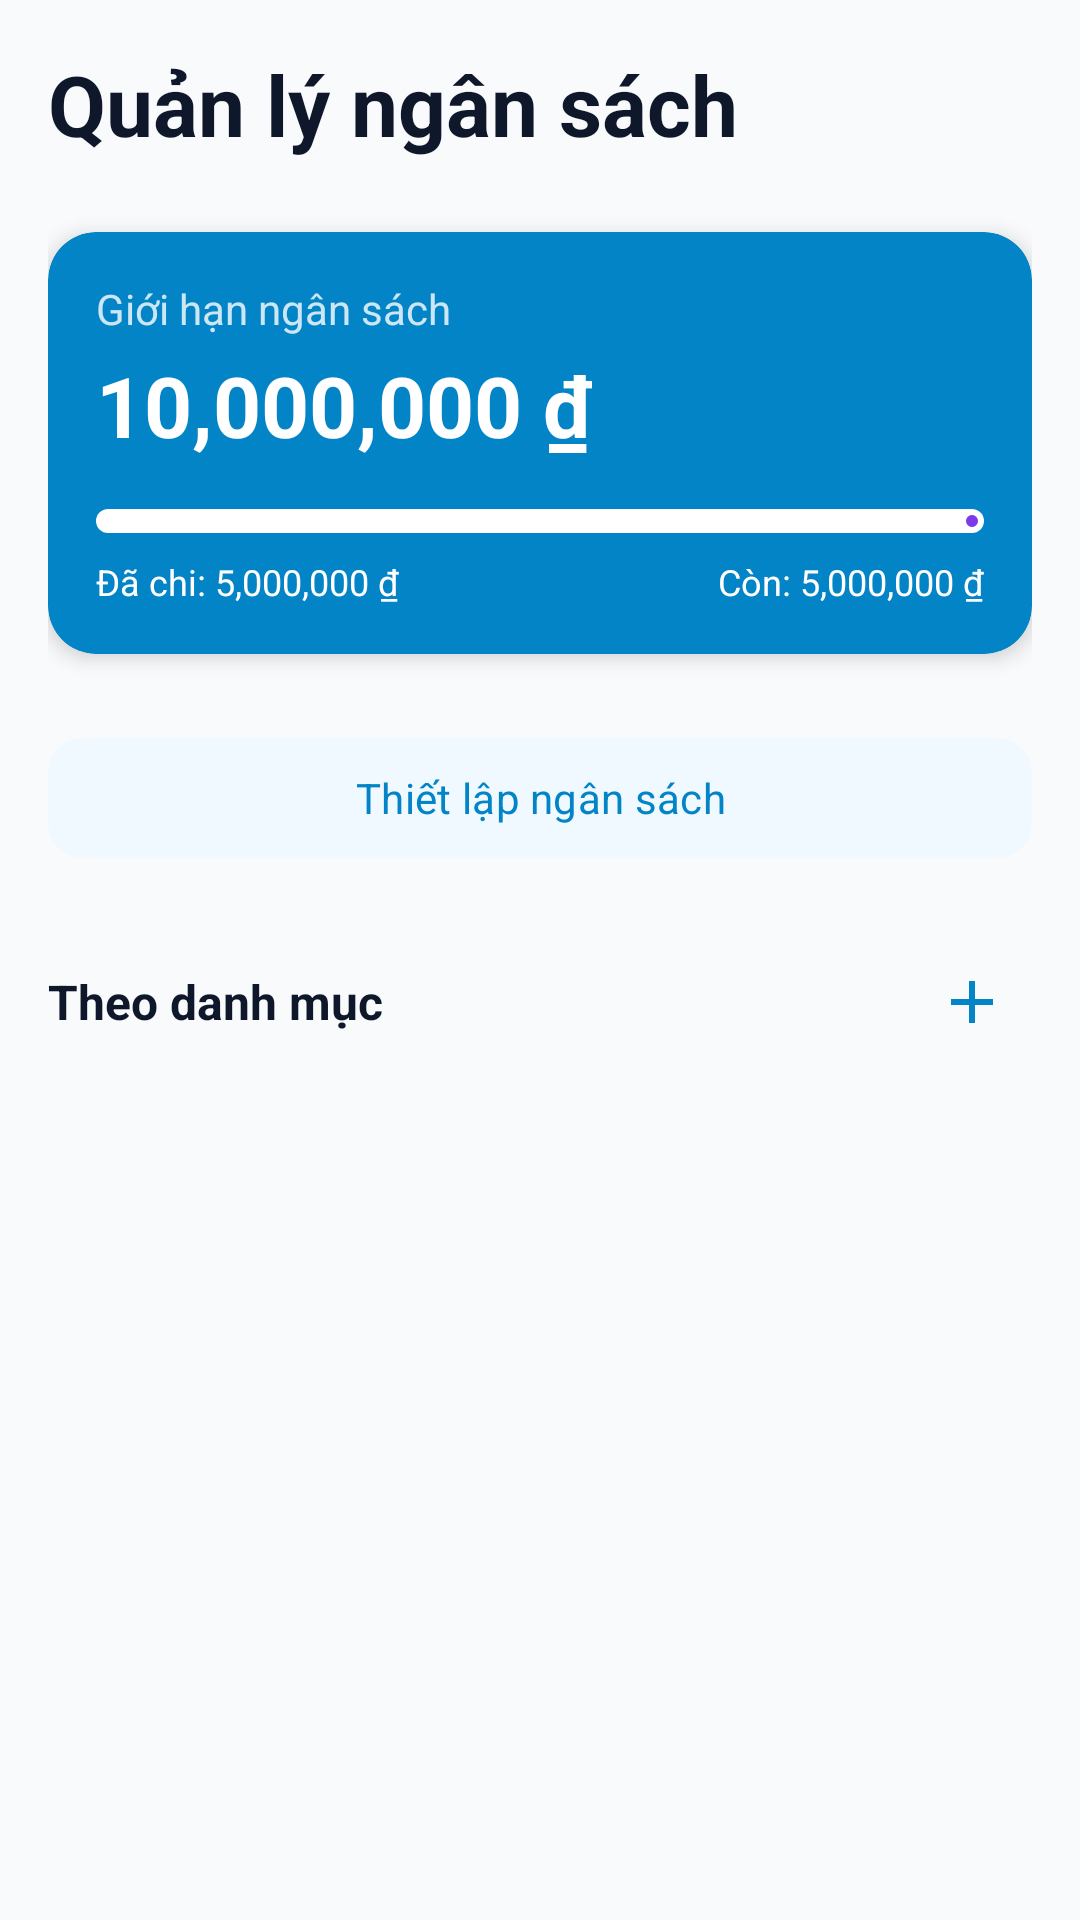

Icon bounding boxes for this 1080px x 1920px phone screenshot, format BBox(x1, y1, x2, y2):
Thêm ngân sách danh mục: BBox(951, 981, 993, 1023)
